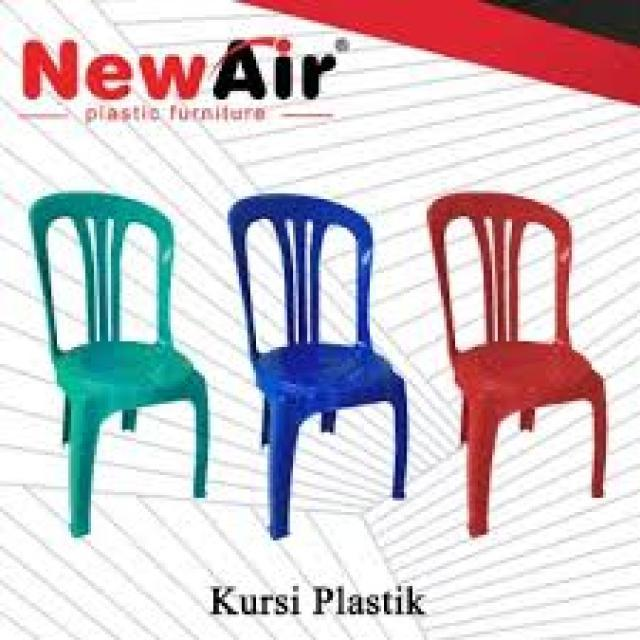chair: (223, 187, 413, 543), (426, 186, 609, 540), (26, 188, 211, 536)
